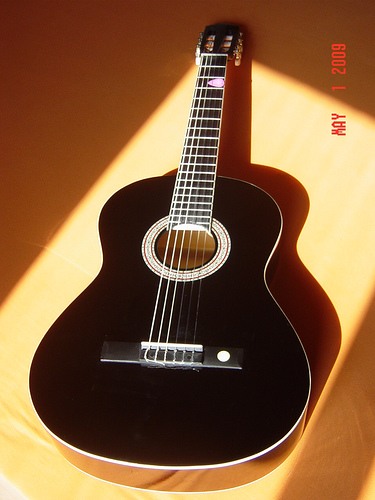guitar: (26, 18, 312, 489)
